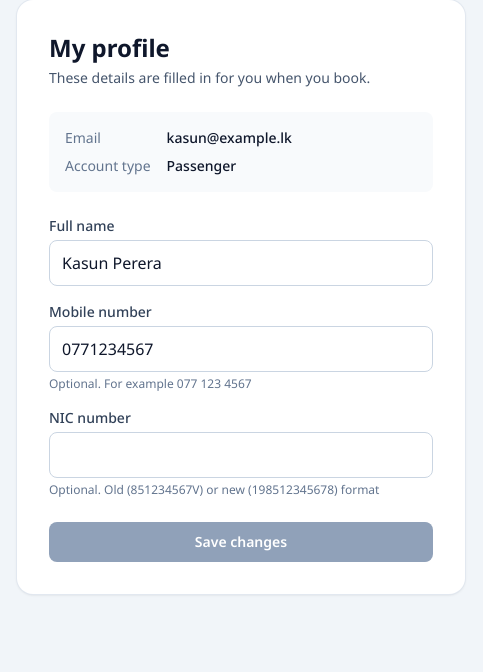
ProfilePage › saves changes, clearing an emptied mobile number
Step 1. Clear the field labelled "Mobile number" → (241, 349), box 49,326 -> 433,372
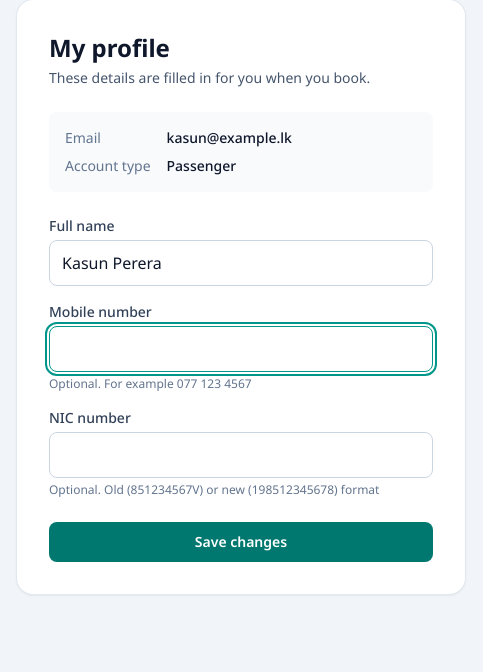
Step 2. Type "851234567v" into the field labelled "NIC number" → (241, 455), box 49,432 -> 433,478
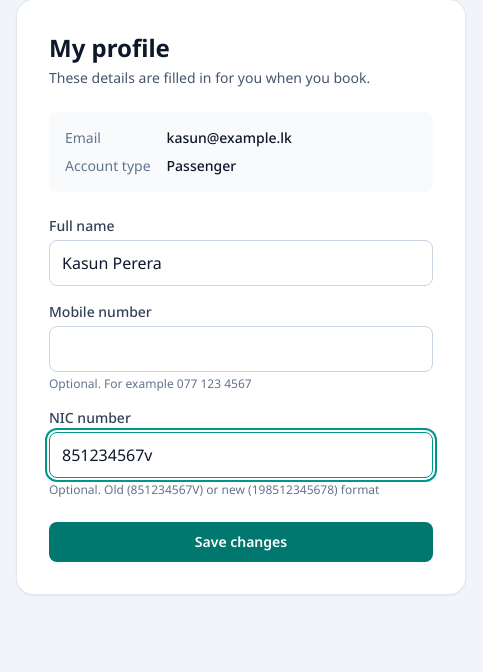
Step 3. Click the button "Save changes" → (241, 542), box 49,522 -> 433,562
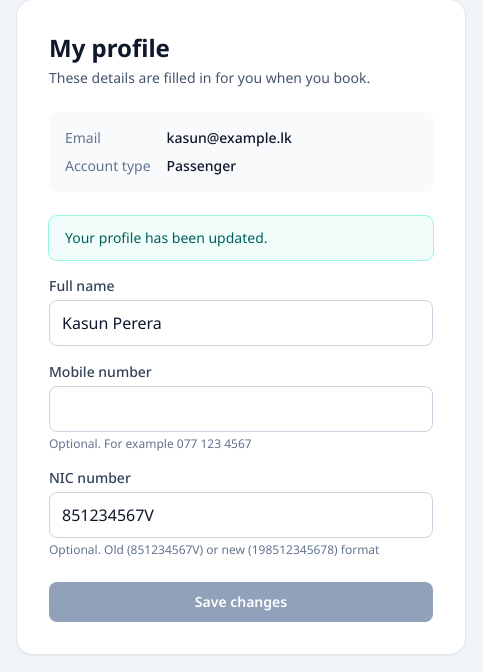
expect the message reads "Your profile has been updated.": met, box 65,228 -> 268,247
